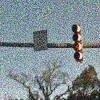traffic lights: (72, 24, 84, 62)
